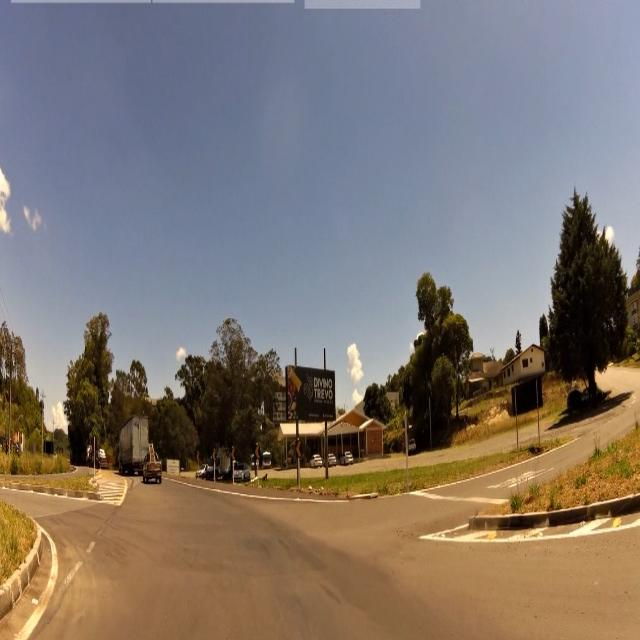Del: (293, 439, 304, 462), (253, 445, 261, 459)
